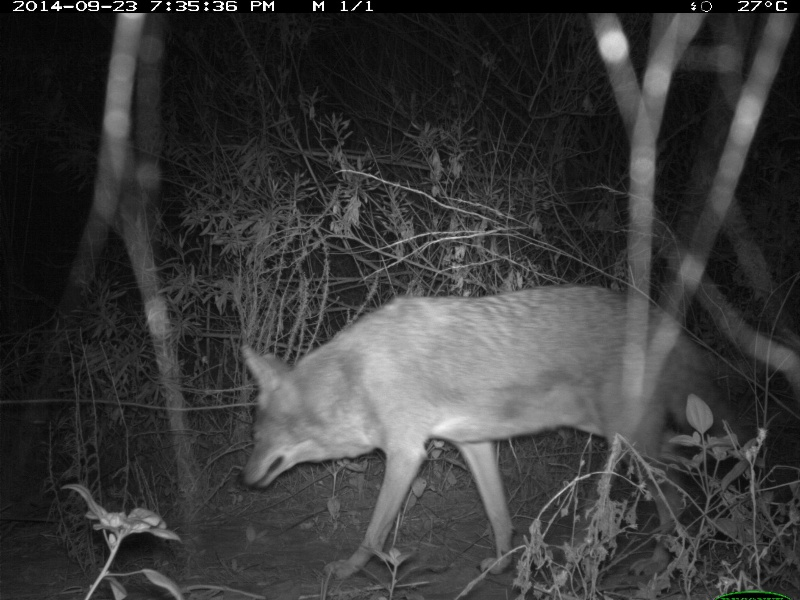coyote: (238, 283, 739, 578)
